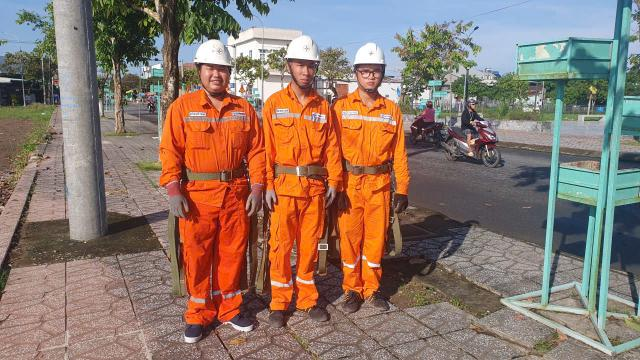gloves: (166, 176, 191, 222), (329, 182, 354, 215), (387, 188, 415, 217), (261, 180, 286, 210), (242, 182, 264, 213), (318, 181, 337, 208)
harness: (261, 148, 334, 187), (169, 162, 253, 182), (334, 153, 389, 181)
helmet: (281, 27, 329, 68), (193, 34, 236, 72), (348, 34, 388, 73)
shoes: (294, 293, 330, 327), (175, 312, 210, 346), (220, 308, 258, 337), (256, 293, 285, 330), (364, 284, 396, 312), (336, 286, 363, 313)
